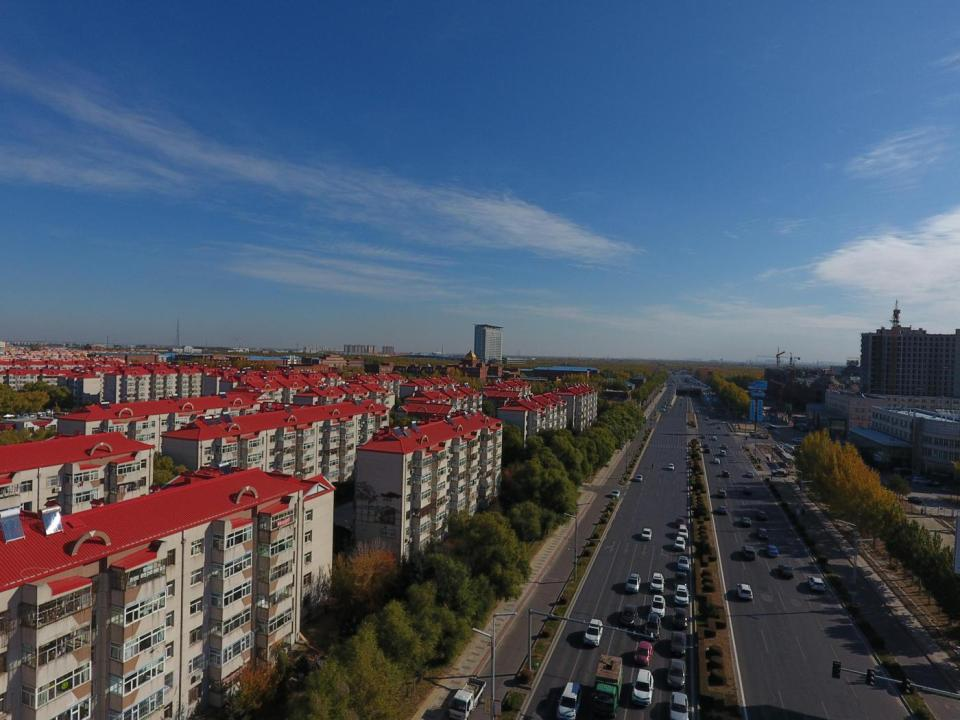car: (556, 682, 582, 720), (632, 669, 654, 707), (666, 658, 686, 689), (670, 692, 688, 720), (584, 619, 602, 646), (634, 640, 652, 666), (644, 614, 660, 640), (620, 604, 637, 628), (670, 631, 686, 655), (649, 595, 666, 617), (674, 584, 689, 606), (624, 573, 640, 593), (807, 576, 826, 592), (649, 572, 664, 592), (672, 608, 687, 628), (737, 584, 753, 600), (674, 571, 687, 589), (778, 564, 794, 578), (741, 546, 756, 559), (674, 536, 686, 552), (765, 544, 778, 557), (678, 556, 689, 571), (641, 528, 652, 541), (677, 525, 688, 538), (756, 528, 768, 539), (926, 480, 942, 488), (740, 516, 751, 527), (675, 516, 685, 528), (907, 496, 922, 504), (749, 430, 766, 437), (756, 511, 768, 520), (906, 476, 922, 482), (717, 490, 727, 498), (789, 450, 802, 456), (784, 446, 797, 452), (611, 490, 620, 498), (718, 506, 727, 514), (756, 433, 768, 439), (761, 422, 773, 428), (779, 443, 793, 448), (760, 421, 771, 427), (785, 447, 798, 452), (722, 470, 730, 478), (790, 438, 806, 442), (763, 424, 775, 429), (635, 475, 643, 482), (744, 487, 752, 494), (785, 448, 799, 452), (799, 424, 806, 432), (756, 420, 767, 425), (782, 445, 795, 449), (776, 442, 789, 446), (667, 464, 675, 470), (766, 426, 777, 430), (746, 472, 754, 477), (720, 450, 726, 456), (704, 447, 710, 453), (714, 458, 721, 463), (722, 444, 728, 449), (716, 425, 721, 430), (704, 443, 708, 448), (702, 434, 706, 439), (712, 436, 716, 440), (726, 432, 730, 436), (705, 417, 709, 420), (696, 410, 699, 414), (718, 414, 721, 418), (679, 385, 684, 387), (662, 408, 665, 411), (668, 384, 672, 386), (680, 402, 682, 406), (665, 400, 667, 403), (663, 404, 666, 406), (680, 396, 682, 399), (704, 409, 707, 411), (671, 384, 673, 386), (670, 391, 671, 393)
truck: (592, 655, 622, 718), (450, 677, 486, 720), (893, 467, 915, 479), (771, 469, 789, 477)
van: (912, 476, 929, 483)
